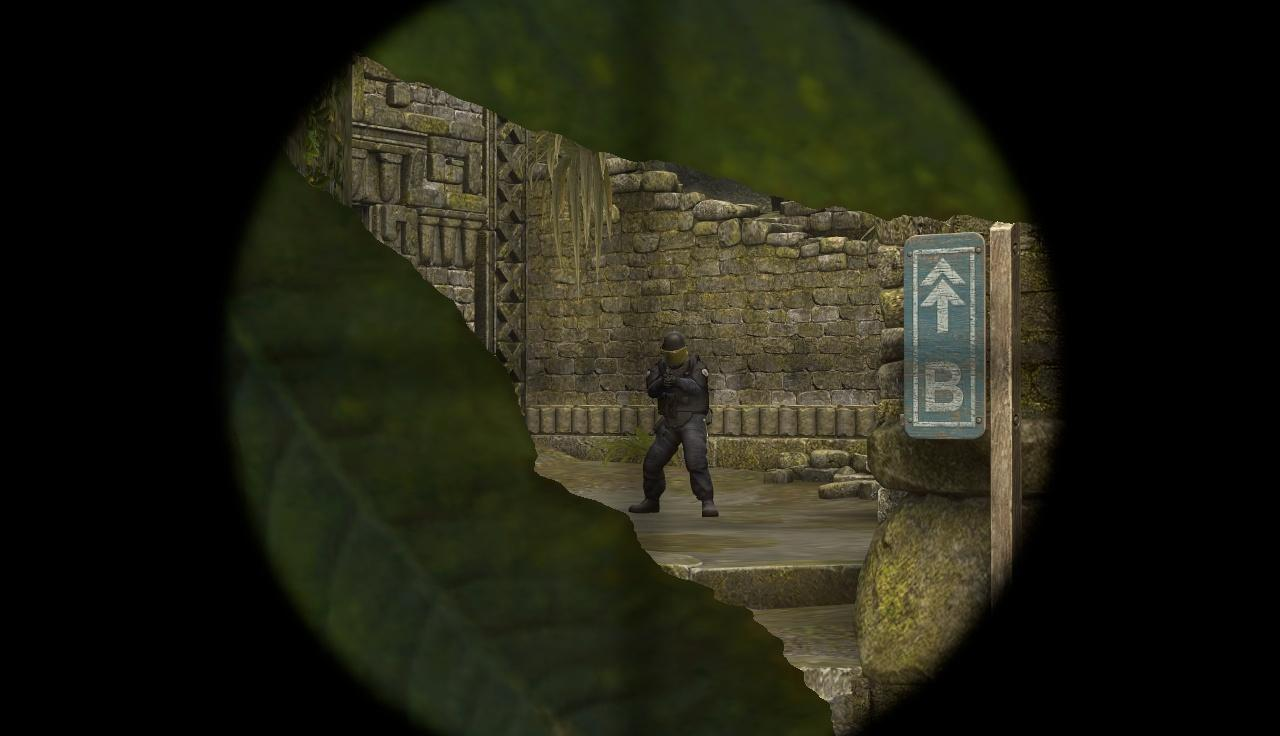ct: (647, 329, 712, 514)
cthead: (663, 330, 690, 363)
